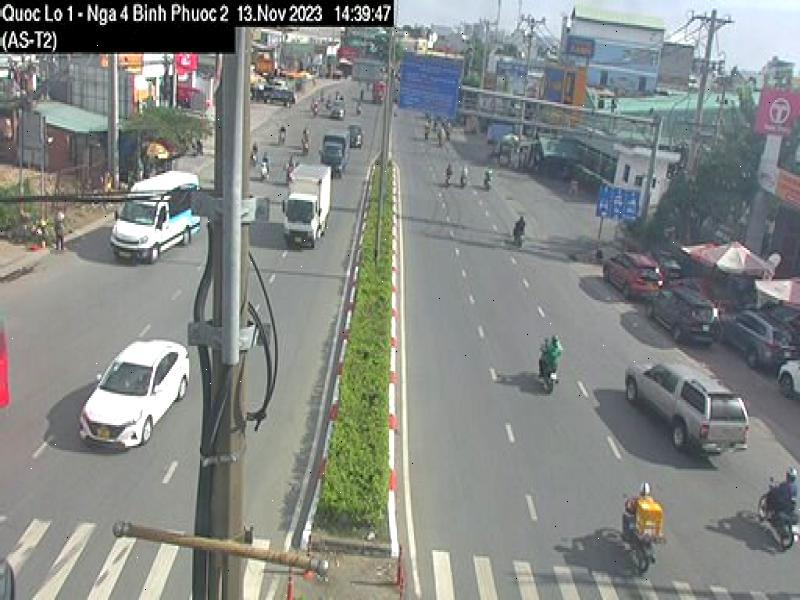truck: (279, 159, 335, 248)
